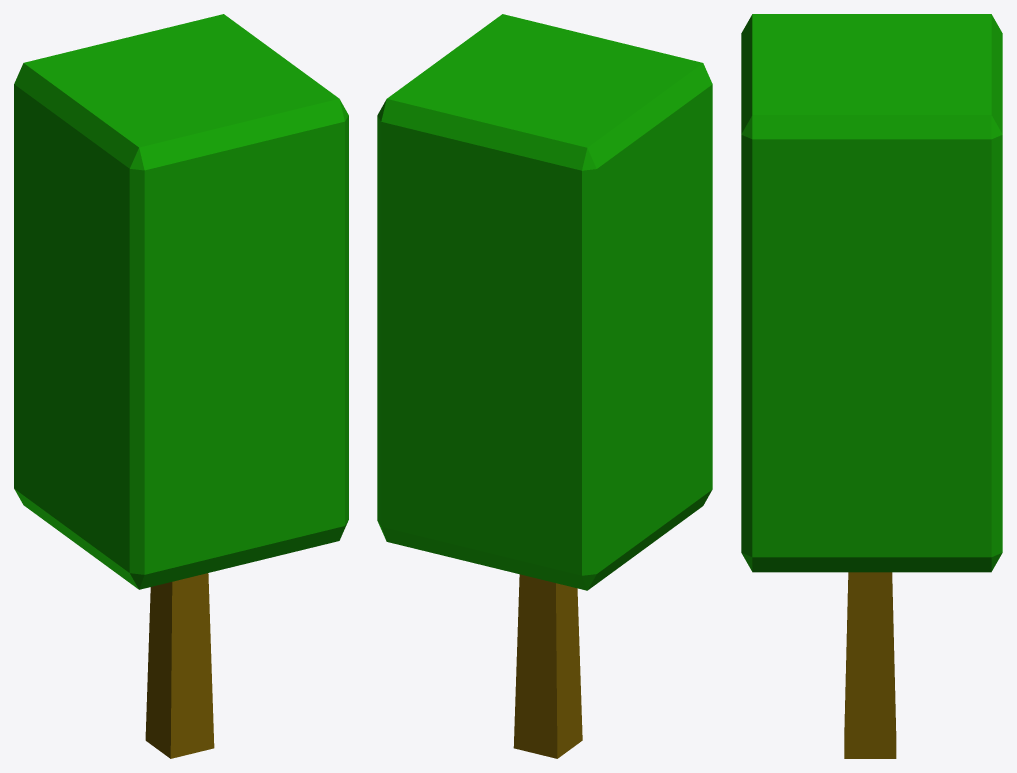
File: square-tree.glb
3 renders of one model, left to right at view 1: azimuth 30°, elevation 25°; view 2: azimuth 150°, elevation 25°; view 3: azimuth 270°, elevation 25°, orthographic. The views are drawn at different scales.
Parts seen in each view (by area): view 1: SQUARE TREE; view 2: SQUARE TREE; view 3: SQUARE TREE.
Boxes of the visible parts, left/top/right/bottom form: SQUARE TREE: left=14, top=14, right=348, bottom=758; SQUARE TREE: left=377, top=14, right=712, bottom=758; SQUARE TREE: left=741, top=14, right=1002, bottom=758.
Bounding box in the file's own units: 2.99 × 8.64 × 2.99.
1 material, 1 textured.
